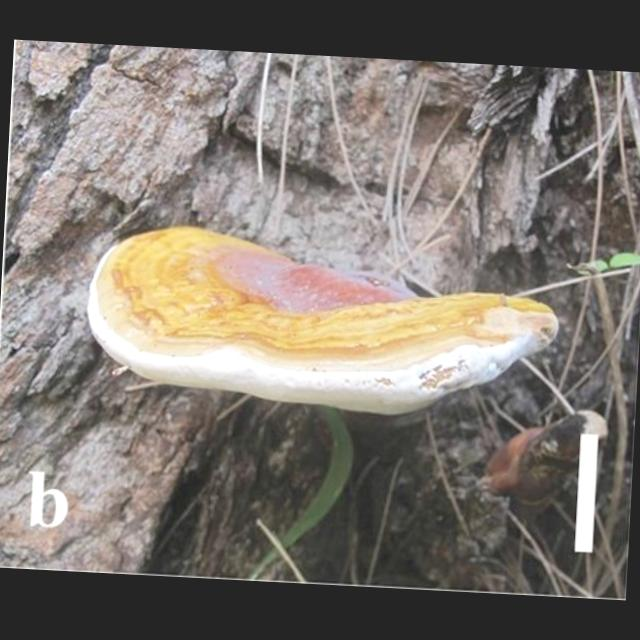ganoderma: (81, 218, 566, 428)
